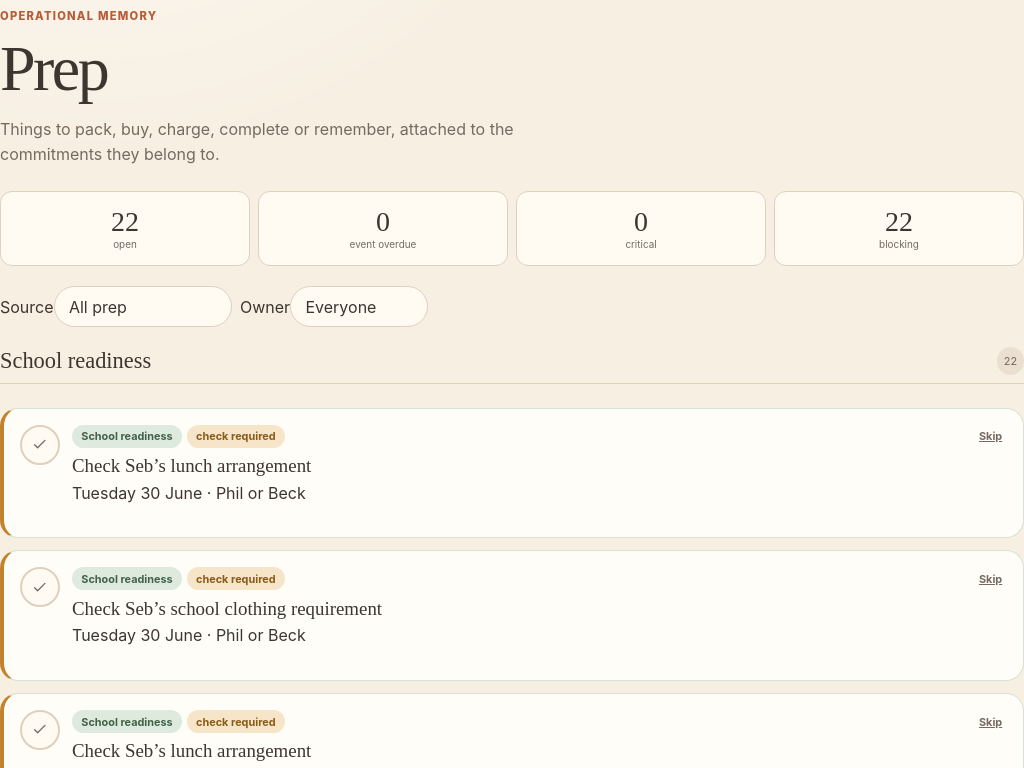
Test: Prep view › shows a calm empty state when celebration prep is filtered but nothing is open
Select "Celebrations" in the dropdown labelled "Source" at (143, 307), box [54,286,232,327]
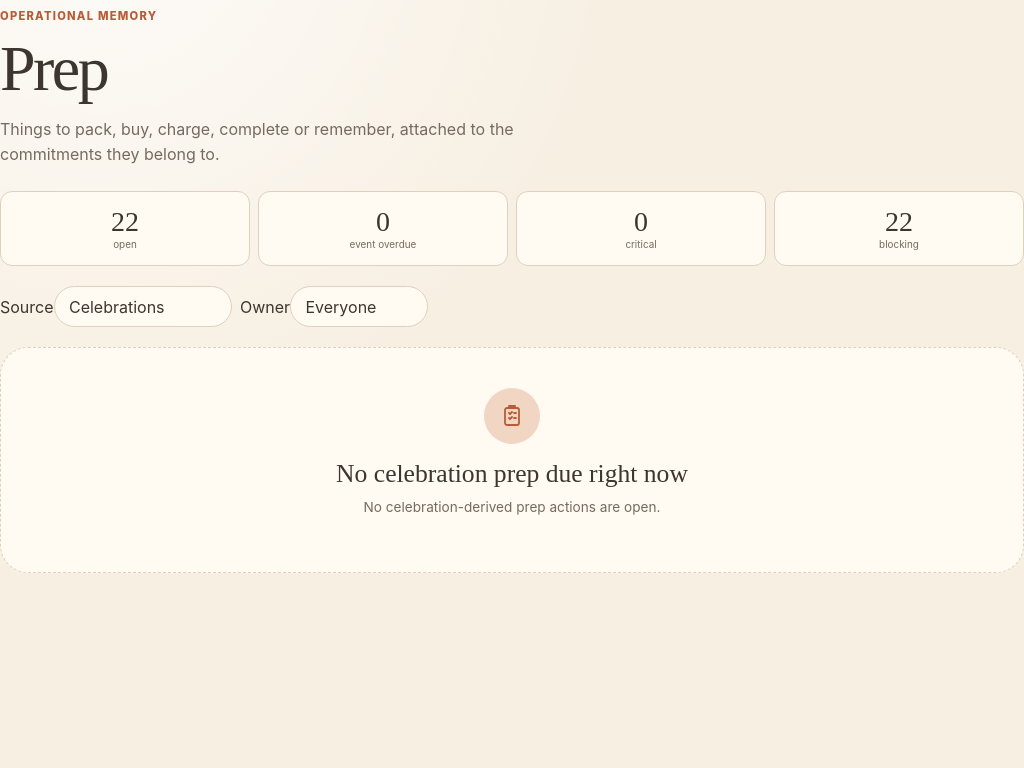
Expected: the heading "No celebration prep due right now" is shown, [336,459,688,488]
